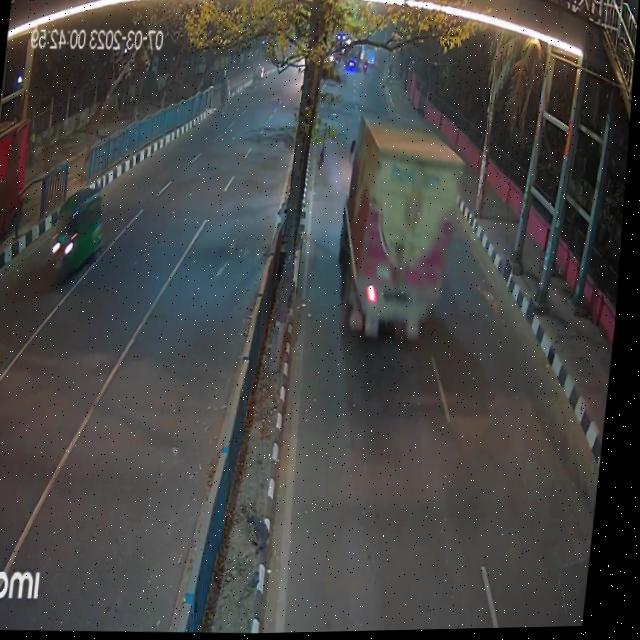cng: (48, 175, 110, 279)
